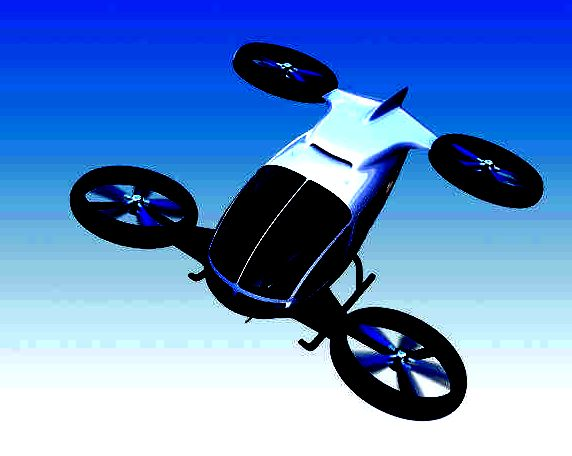Drone: (66, 34, 547, 429)
